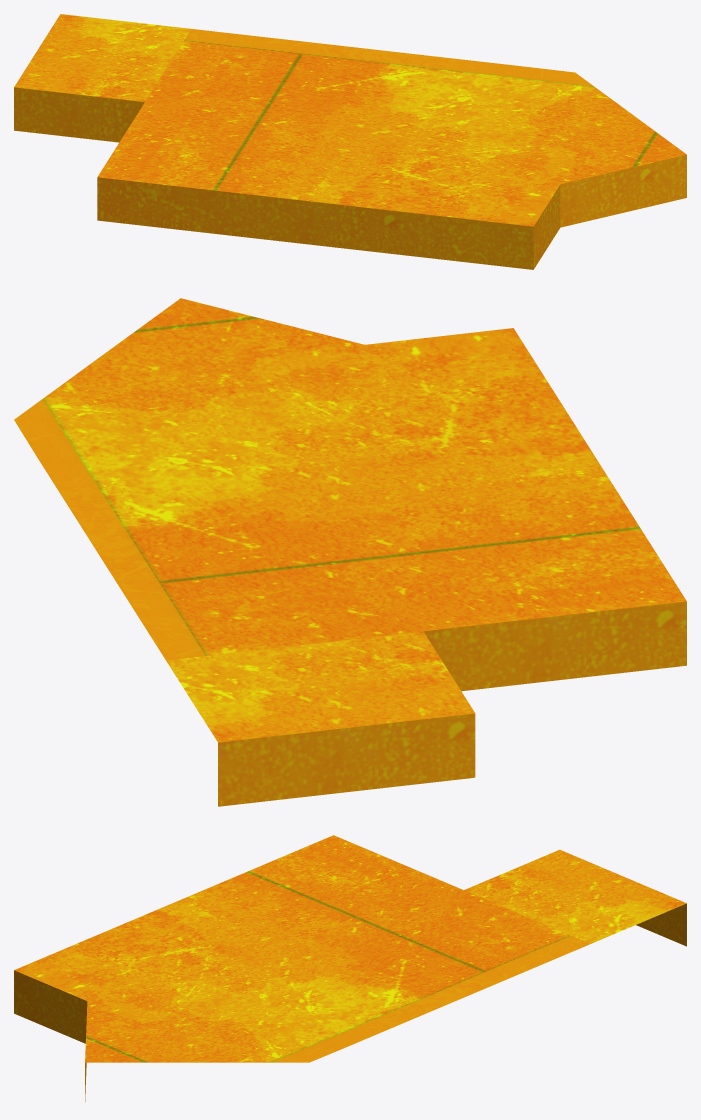
File: FacilityPlatform_05_SM_Low.fbx
3 renders of one model, top to bottom at view 1: azimuth 30°, elevation 25°; view 2: azimuth 150°, elevation 25°; view 3: azimuth 270°, elevation 25°, orthographic. The views are drawn at different scales.
Visible parts, largest first — view 1: facility_platform_05_geo; view 2: facility_platform_05_geo; view 3: facility_platform_05_geo.
Part boxes in pixels (left/top/right/bottom): facility_platform_05_geo: left=14, top=14, right=686, bottom=269; facility_platform_05_geo: left=14, top=298, right=686, bottom=806; facility_platform_05_geo: left=14, top=835, right=686, bottom=1101.
Bounding box in the file's own units: 1141 × 101 × 1427.
Materials: 2 (2 with a texture image).
